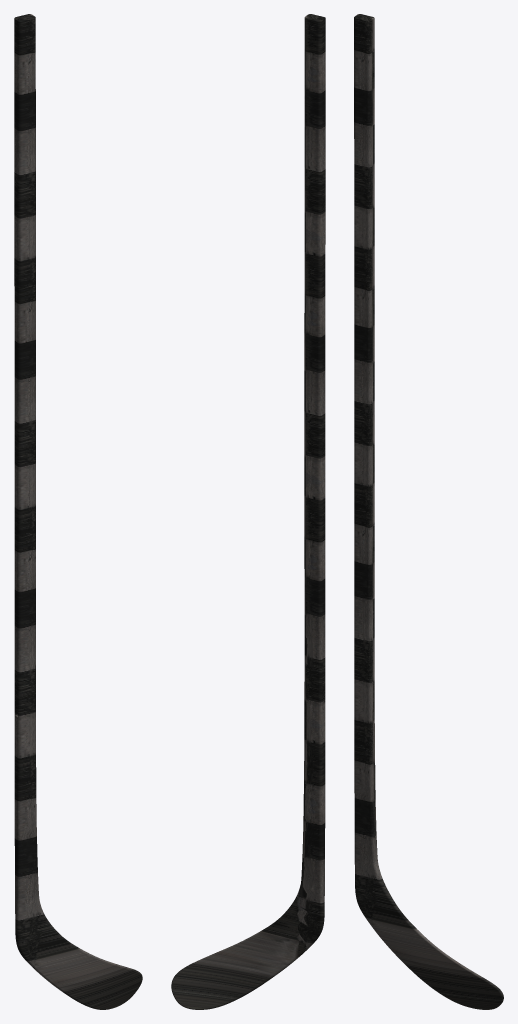
The picture shows the model from 3 angles, left to right: view 1: azimuth 30°, elevation 25°; view 2: azimuth 150°, elevation 25°; view 3: azimuth 330°, elevation 25°; orthographic projection. The views are drawn at different scales.
Visible parts, largest first — view 1: geometry_0; view 2: geometry_0; view 3: geometry_0.
Part boxes in pixels (left/top/right/bottom): geometry_0: left=14, top=14, right=142, bottom=1009; geometry_0: left=171, top=14, right=325, bottom=1009; geometry_0: left=354, top=14, right=503, bottom=1009.
Bounding box in the file's own units: 237 × 1650 × 60.38.
1 material, 1 textured.
